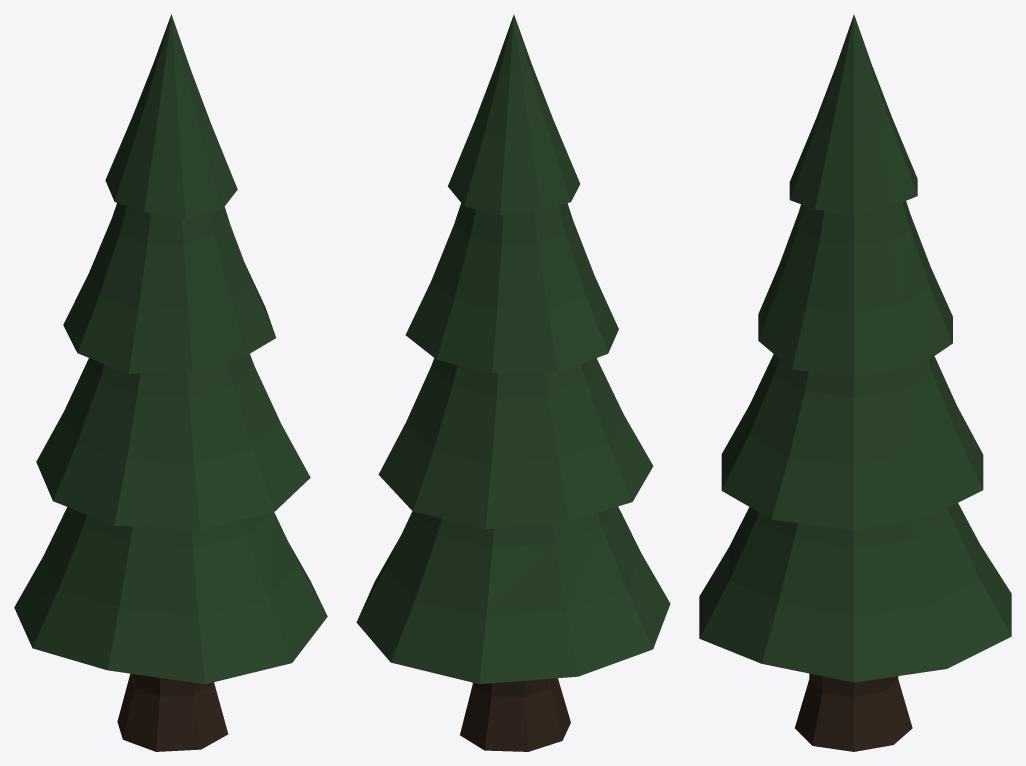
File: tall-pine-tree-shadow.glb
The picture shows the model from 3 angles, left to right: view 1: azimuth 30°, elevation 25°; view 2: azimuth 150°, elevation 25°; view 3: azimuth 270°, elevation 25°; orthographic projection.
Parts seen in each view (by area): view 1: pine; view 2: pine; view 3: pine.
Boxes of the visible parts, bbox=[...] form: pine: bbox=[14, 14, 327, 751]; pine: bbox=[356, 14, 670, 751]; pine: bbox=[699, 14, 1011, 751].
Size of the model in its own units: 3.67 by 9 by 3.56.
